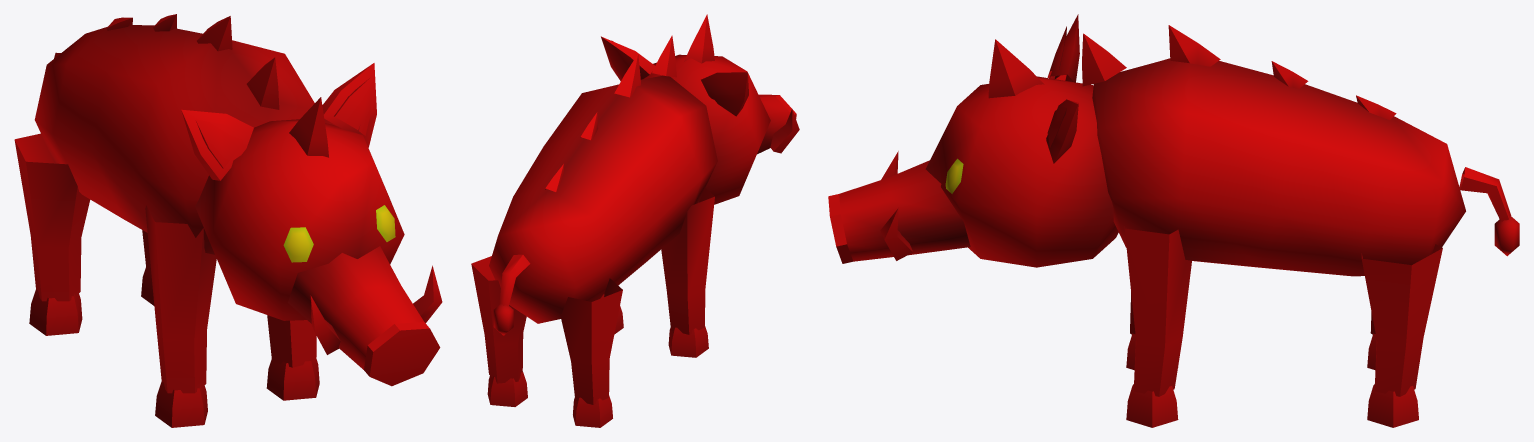
The model's file is BoarAnimal_LOD1.glb.
3 renders of one model, left to right at view 1: azimuth 30°, elevation 25°; view 2: azimuth 150°, elevation 25°; view 3: azimuth 270°, elevation 25°, orthographic. The views are drawn at different scales.
Visible parts, largest first — view 1: BoarAnimal_LOD1; view 2: BoarAnimal_LOD1; view 3: BoarAnimal_LOD1.
Part boxes in pixels (x1,y1,x2,y2): BoarAnimal_LOD1: (14,14,442,427); BoarAnimal_LOD1: (471,14,799,427); BoarAnimal_LOD1: (828,14,1519,427).
Bounding box in the file's own units: 0.2663 × 0.5024 × 0.8611.
